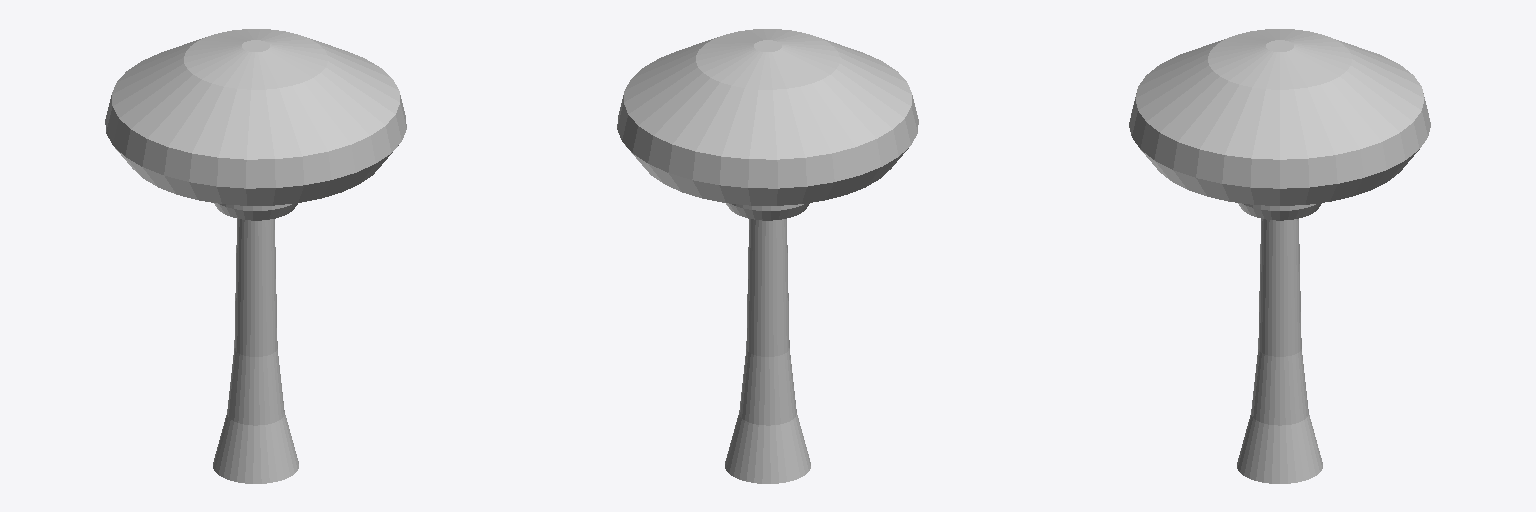
The model's file is mush.obj.
3 views of the same model, side by side, from view 1: azimuth 30°, elevation 25°; view 2: azimuth 150°, elevation 25°; view 3: azimuth 270°, elevation 25° (orthographic).
Visible parts, largest first — view 1: Ball, Stem; view 2: Ball, Stem; view 3: Ball, Stem.
Part boxes in pixels (x1,y1,x2,y2): Ball: (105, 29, 406, 220); Stem: (213, 219, 298, 483); Ball: (617, 29, 918, 220); Stem: (725, 219, 810, 483); Ball: (1129, 29, 1430, 220); Stem: (1237, 219, 1322, 483).
Size of the model in its own units: 20.9 by 32 by 20.9.